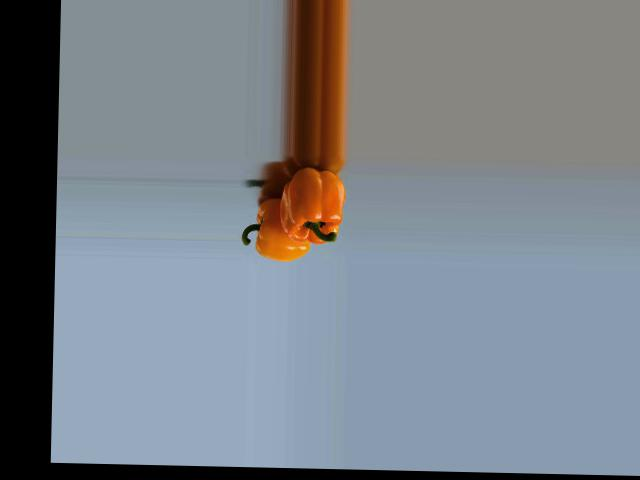bell_pepper: (242, 186, 313, 262)
